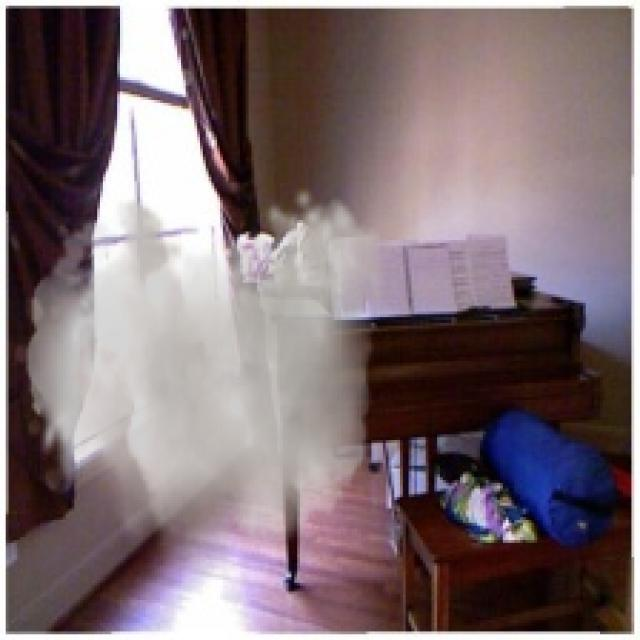smoke: (26, 183, 386, 597)
